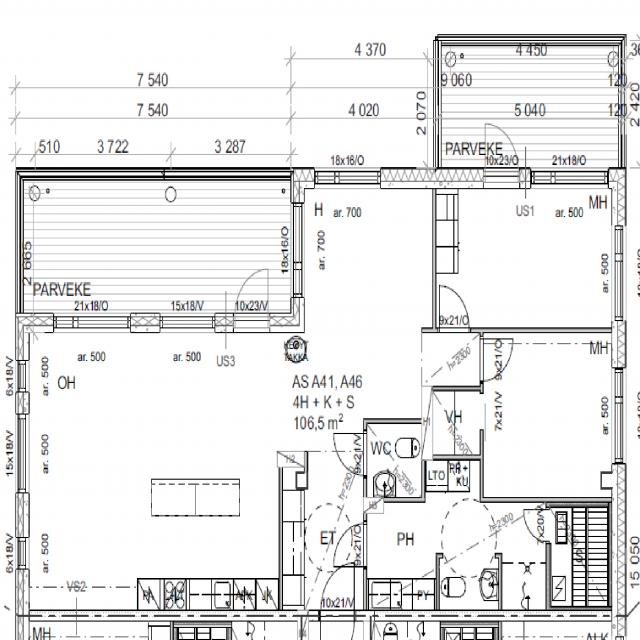door: (485, 120, 518, 188), (235, 264, 268, 332), (321, 562, 354, 621), (332, 523, 367, 566), (480, 339, 514, 381), (333, 433, 367, 475), (439, 284, 468, 332), (524, 509, 551, 541)
